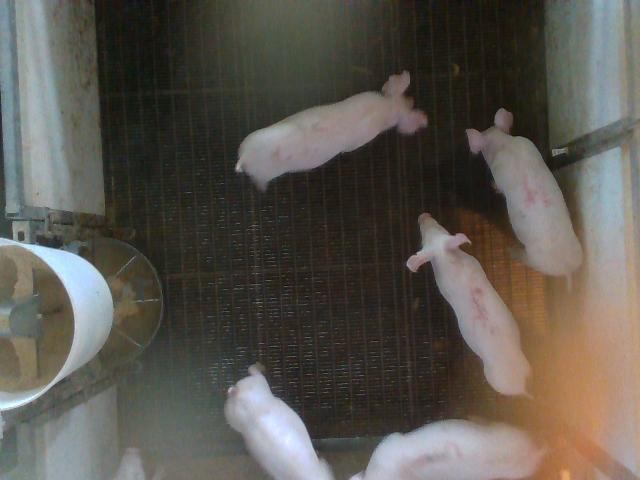pig-3: (364, 420, 544, 479)
pig-4: (466, 109, 582, 284)
pig-5: (408, 214, 531, 395)
